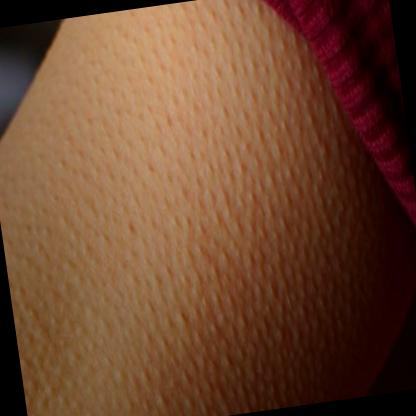Chicken Skin: (0, 18, 338, 416)
